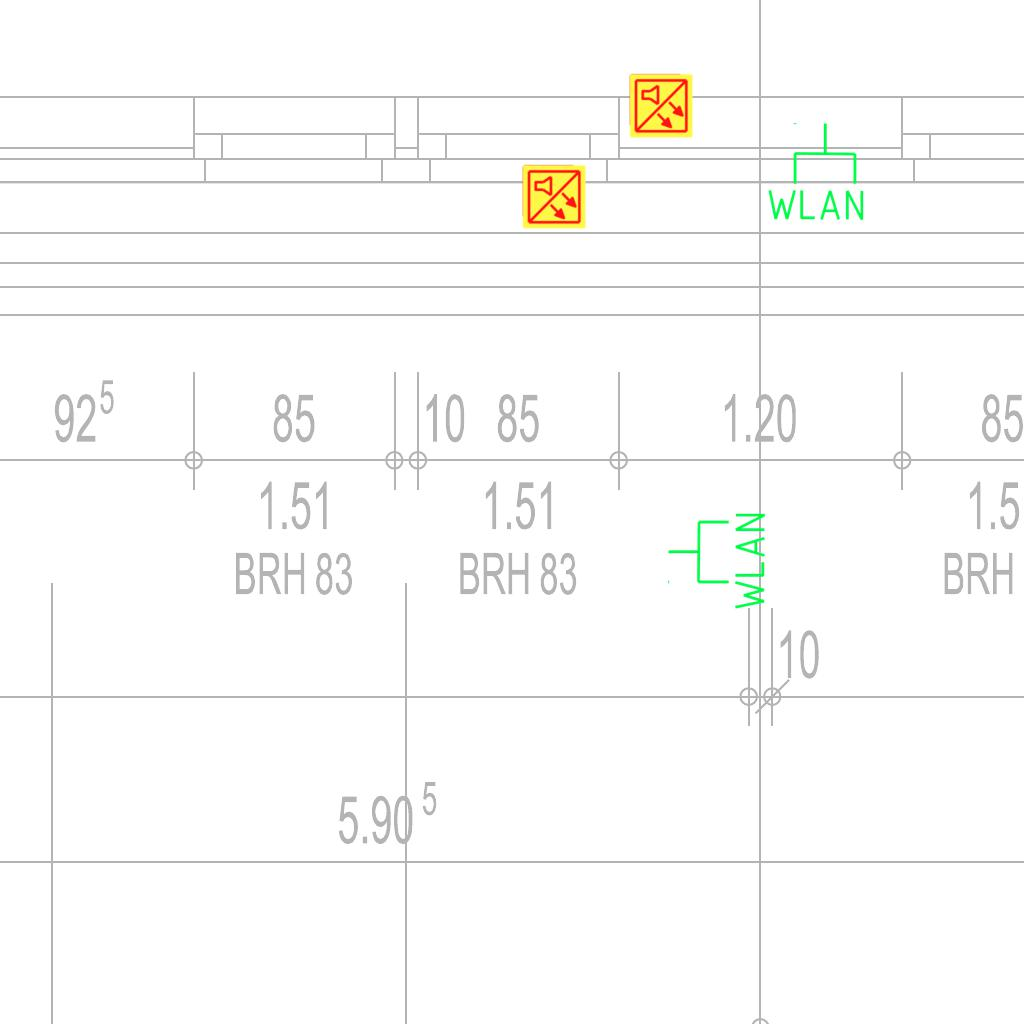OKW_Multisensormelder_(Kombination_optischer_Rauch-Kahlenmonoxid_Waerme-Melder): (521, 164, 587, 230), (628, 73, 694, 139)
WLAN: (763, 120, 868, 224), (665, 509, 769, 614)
